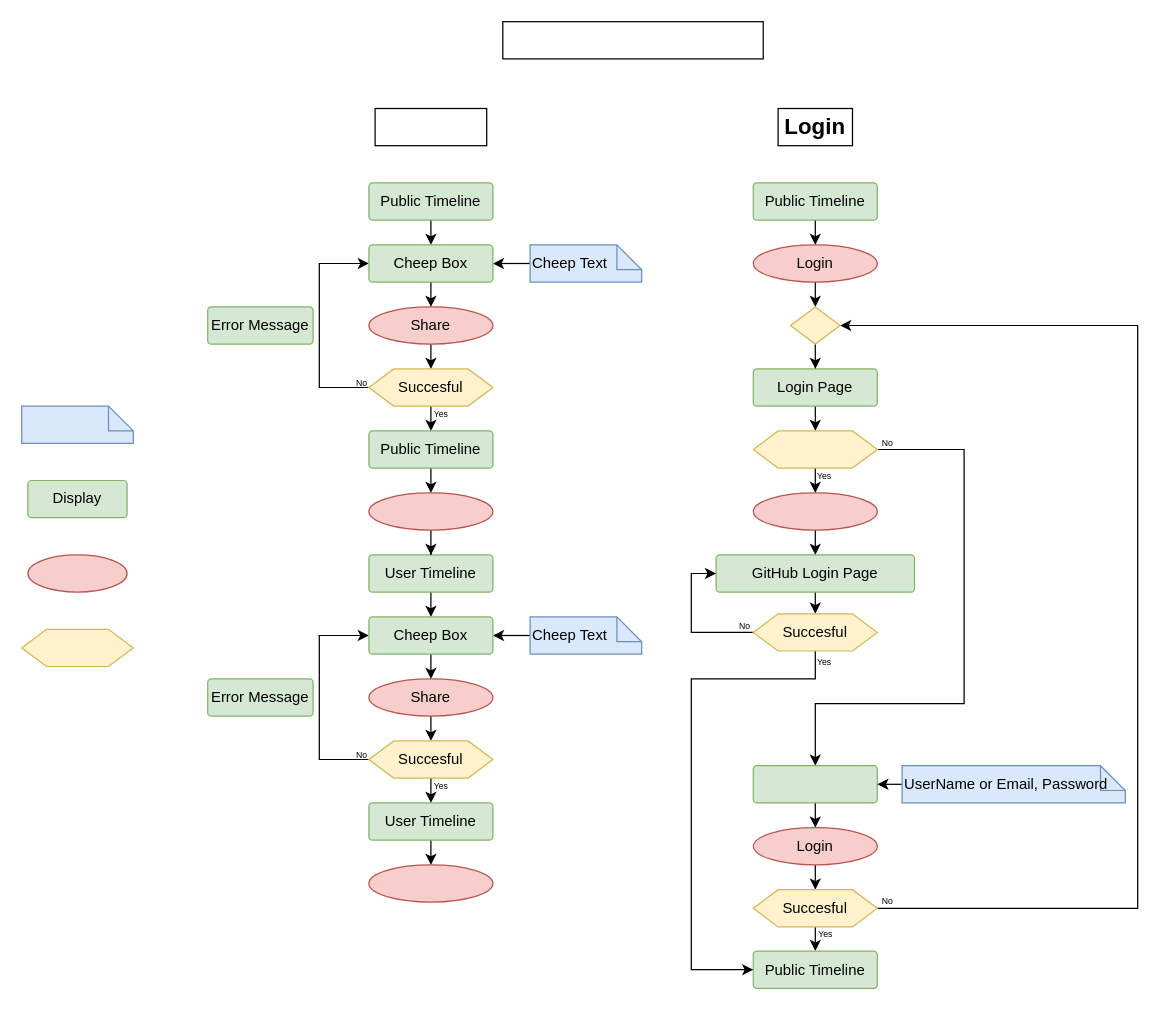
Some shapes in this 1169 by 1011 pixel diagram are drawn without their labels. Here are the shapes that lost their labels. From the top down, the centre of each, then its label:
At (632,39): "Authorized Journey".
At (430,126): "Browsing".
At (76,424): "Inserting".
At (814,449): "Github Login".
At (430,511): "Your Timeline".
At (814,511): "GitHub".
At (77,573): "Button".
At (76,647): "Condition".
At (814,783): "Login User".
At (430,883): "Logout".
